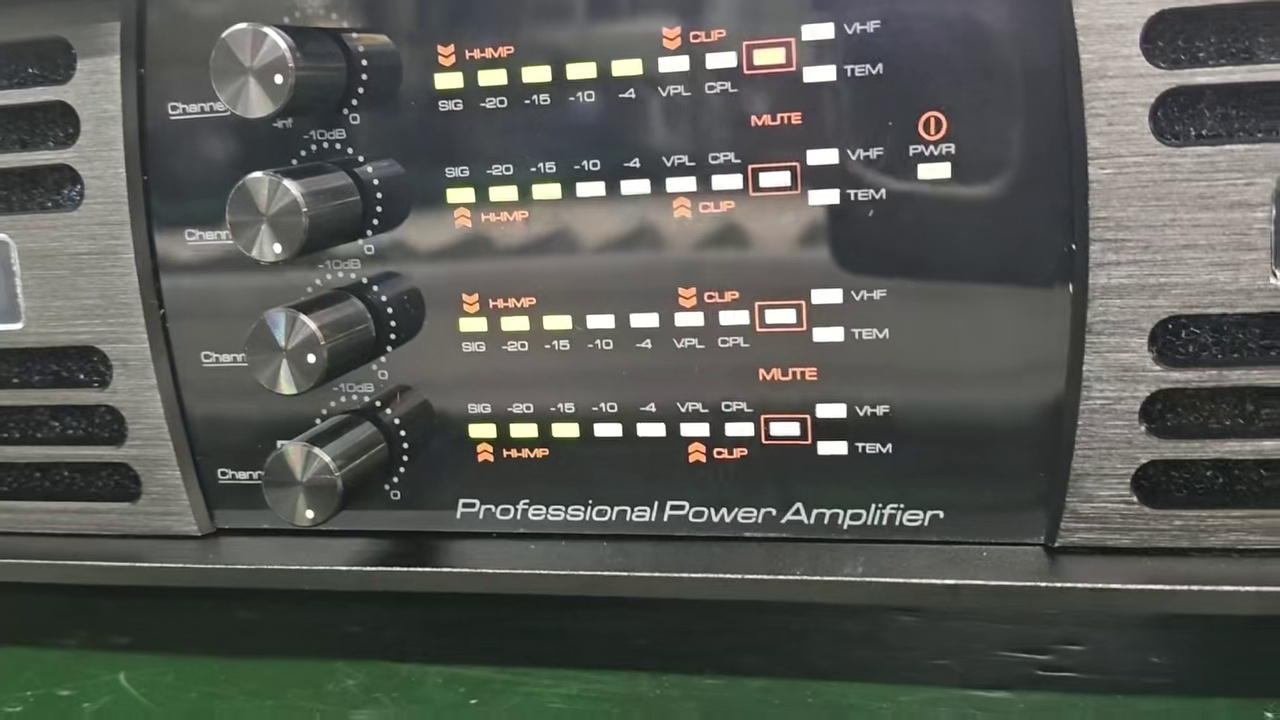FP_CPL: (705, 147, 745, 198), (701, 48, 741, 98), (718, 398, 757, 443), (715, 307, 754, 351)
FP_PWR: (907, 144, 958, 183)
FP_PWR_area: (902, 108, 960, 187)
FP_SIG_area: (426, 21, 887, 112), (440, 145, 887, 231), (465, 393, 892, 471), (455, 286, 895, 350)
FP_VPL: (654, 52, 696, 101), (662, 151, 700, 196), (669, 308, 707, 351), (676, 396, 711, 440)
